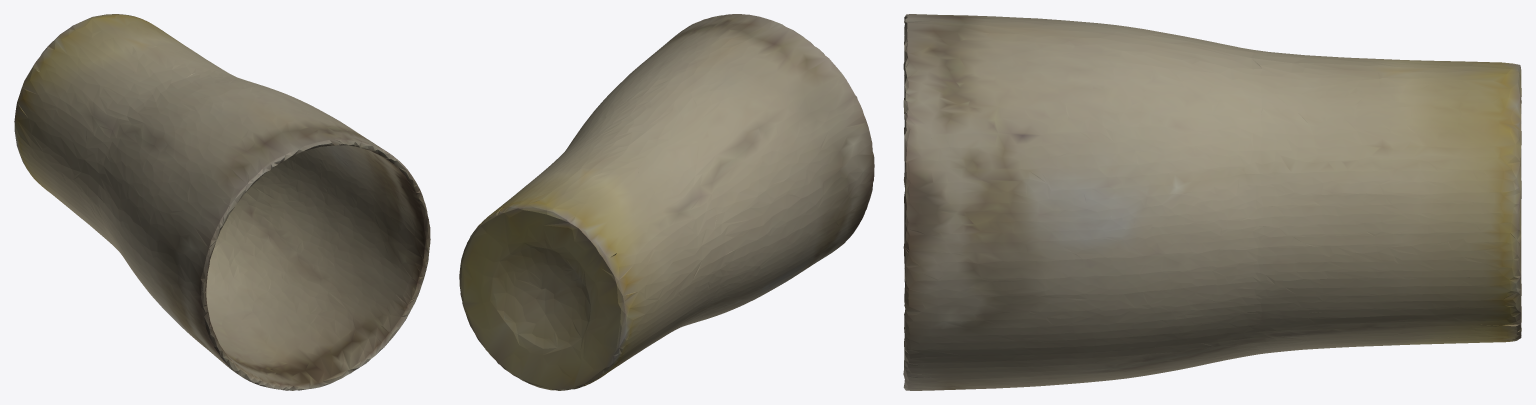
3 views of the same model, side by side, from view 1: azimuth 30°, elevation 25°; view 2: azimuth 150°, elevation 25°; view 3: azimuth 270°, elevation 25° (orthographic). The views are drawn at different scales.
Size of the model in its own units: 0.0842 by 0.0862 by 0.1403.
